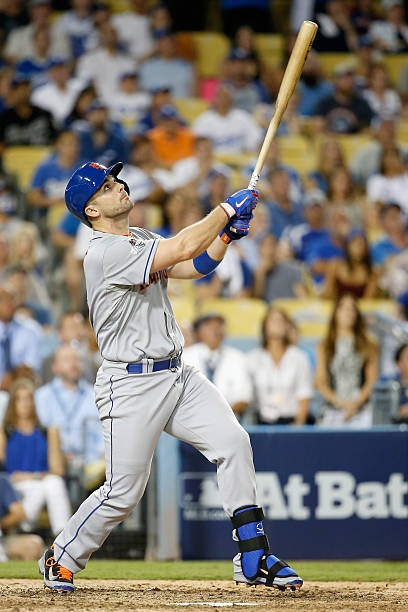bita: (231, 19, 318, 239)
